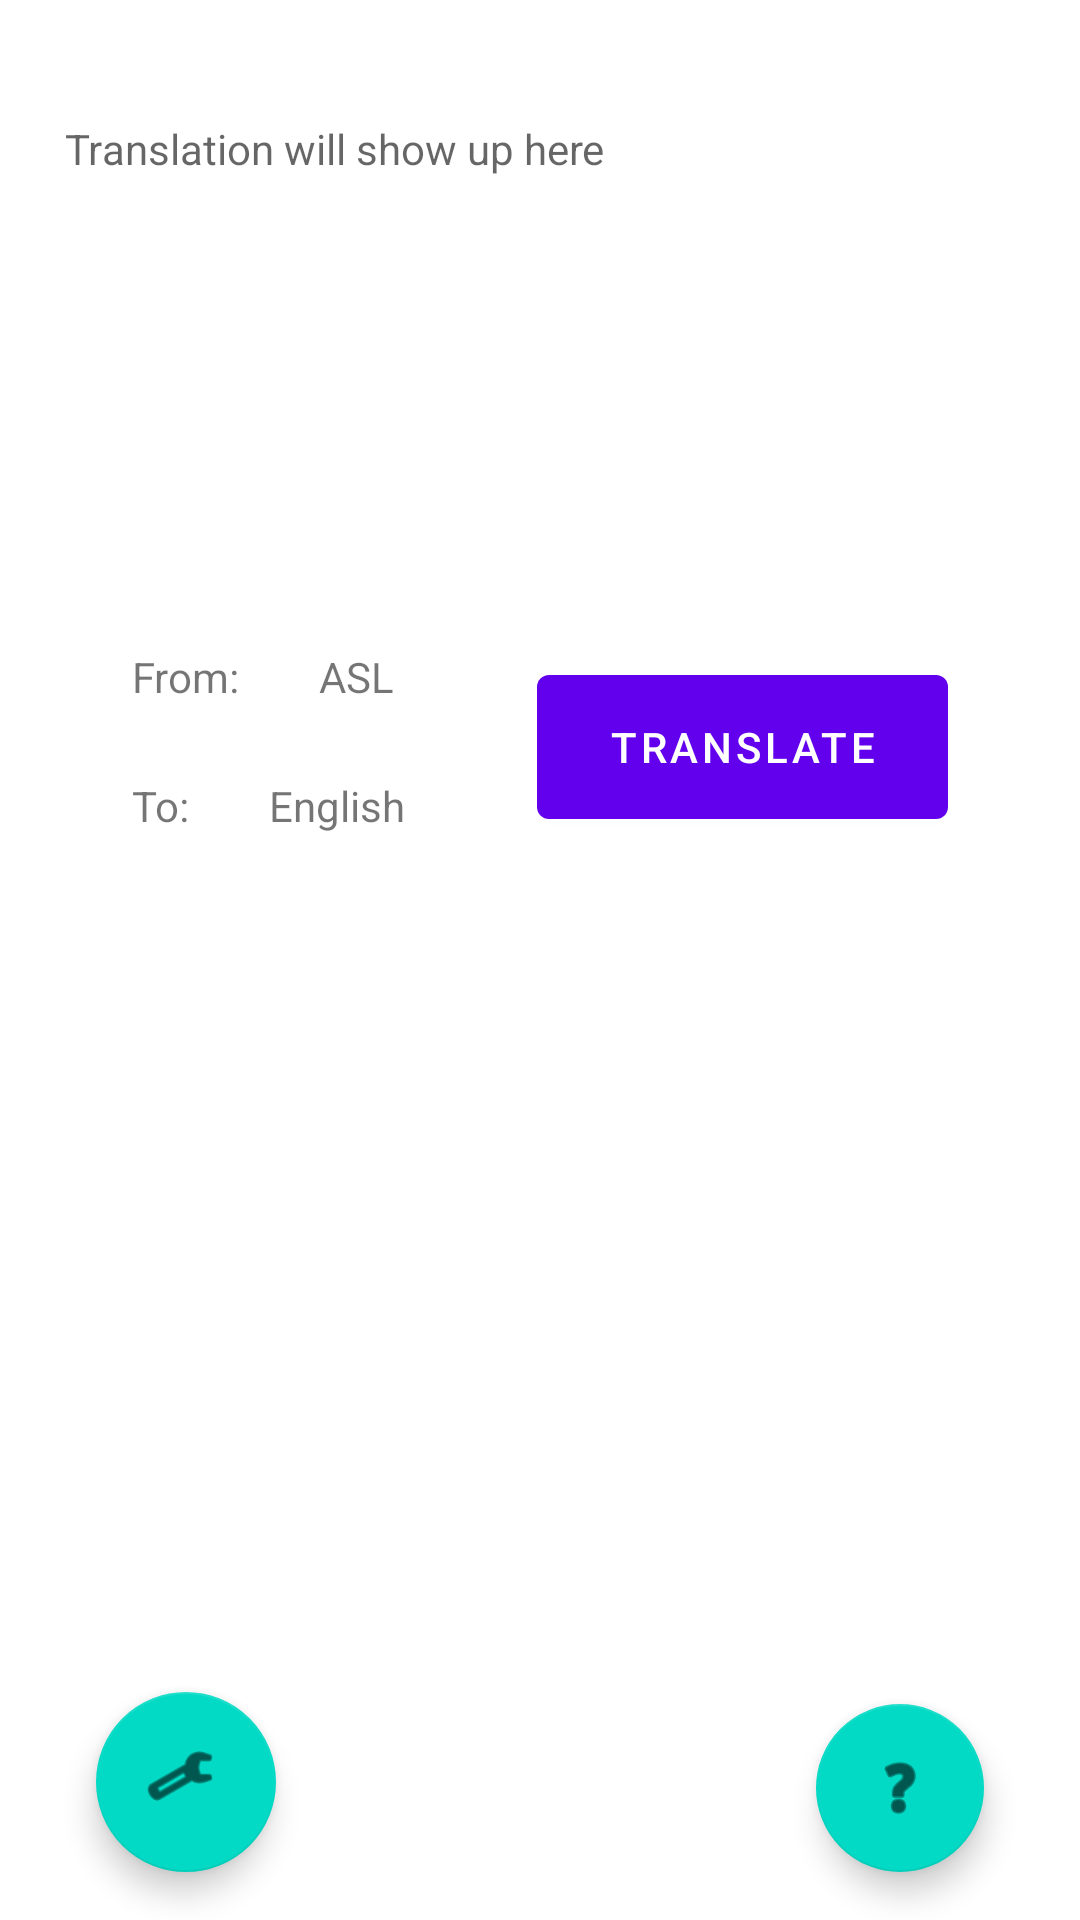

Where to tap for icons on this 1080px×1920px app screen, as (x=x, y=y):
help: (x=900, y=1788)
preferences: (x=186, y=1782)
